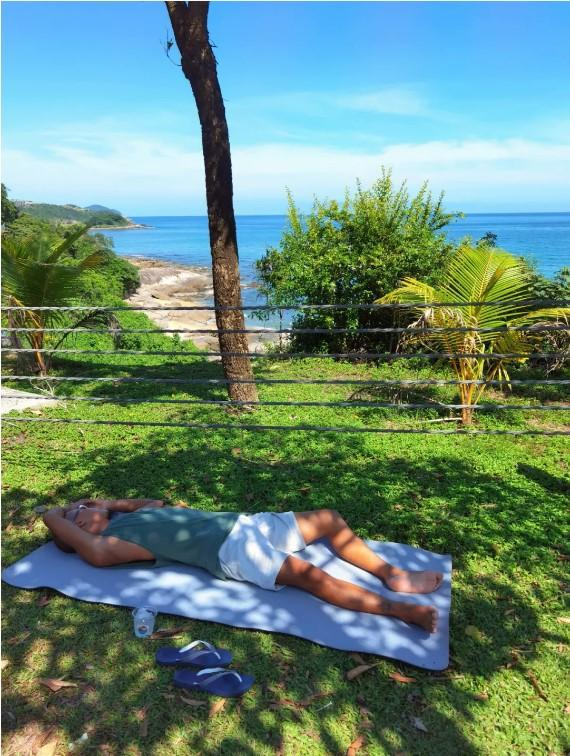down: (39, 482, 460, 639)
